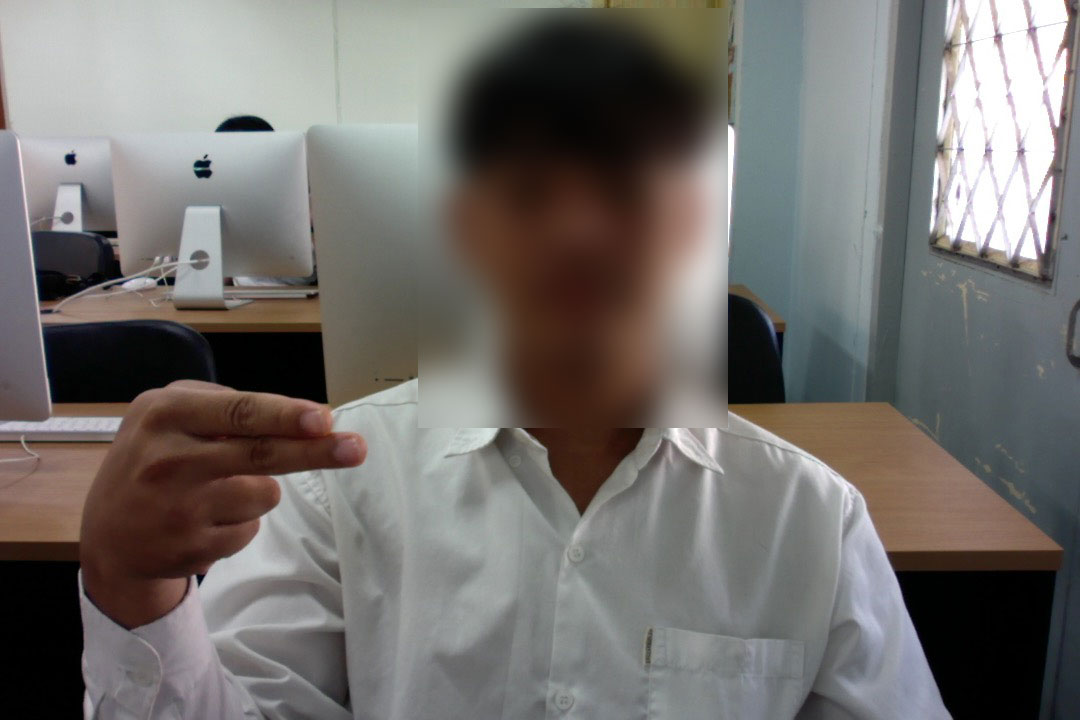hor: (51, 374, 389, 582)
